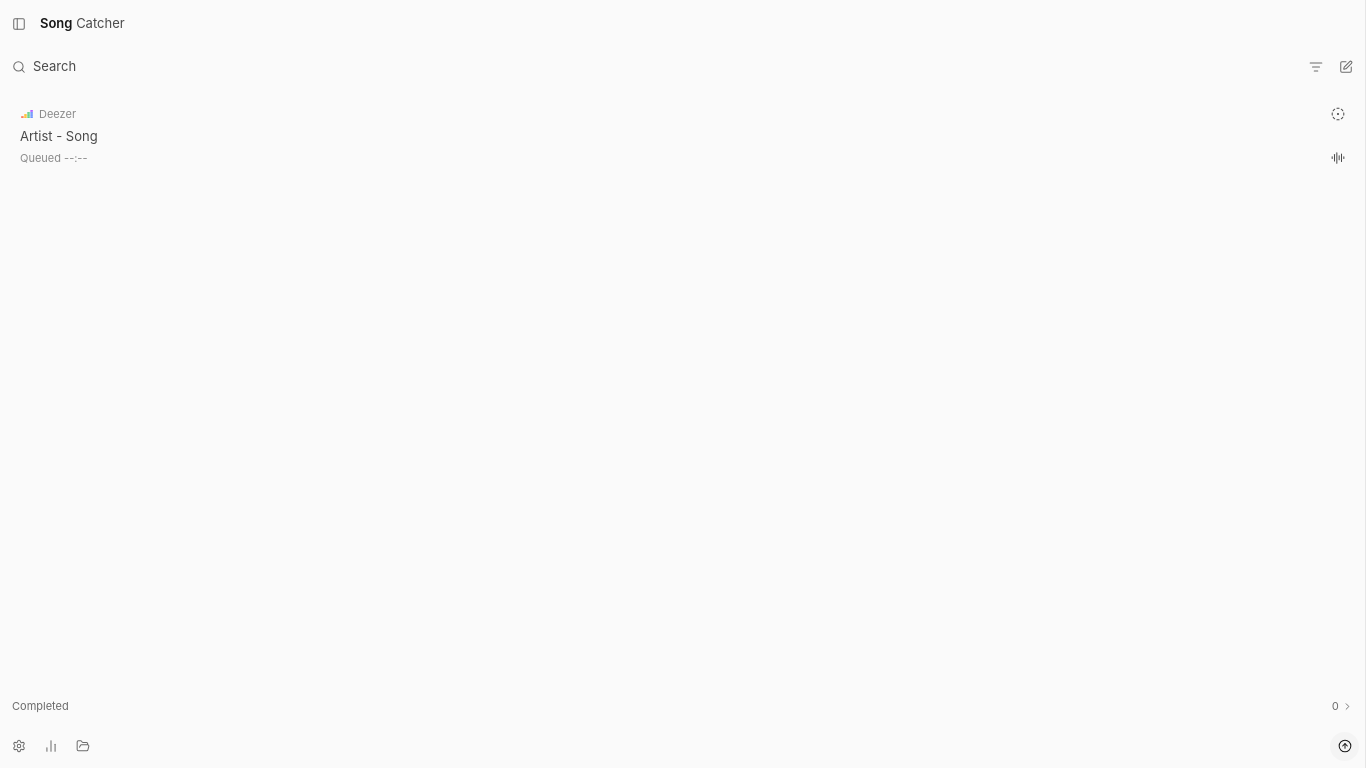
Test: Sidebar queue › says so when nothing has completed yet
Click the button "Completed 0": x=40, y=706 [12,688,1353,724]
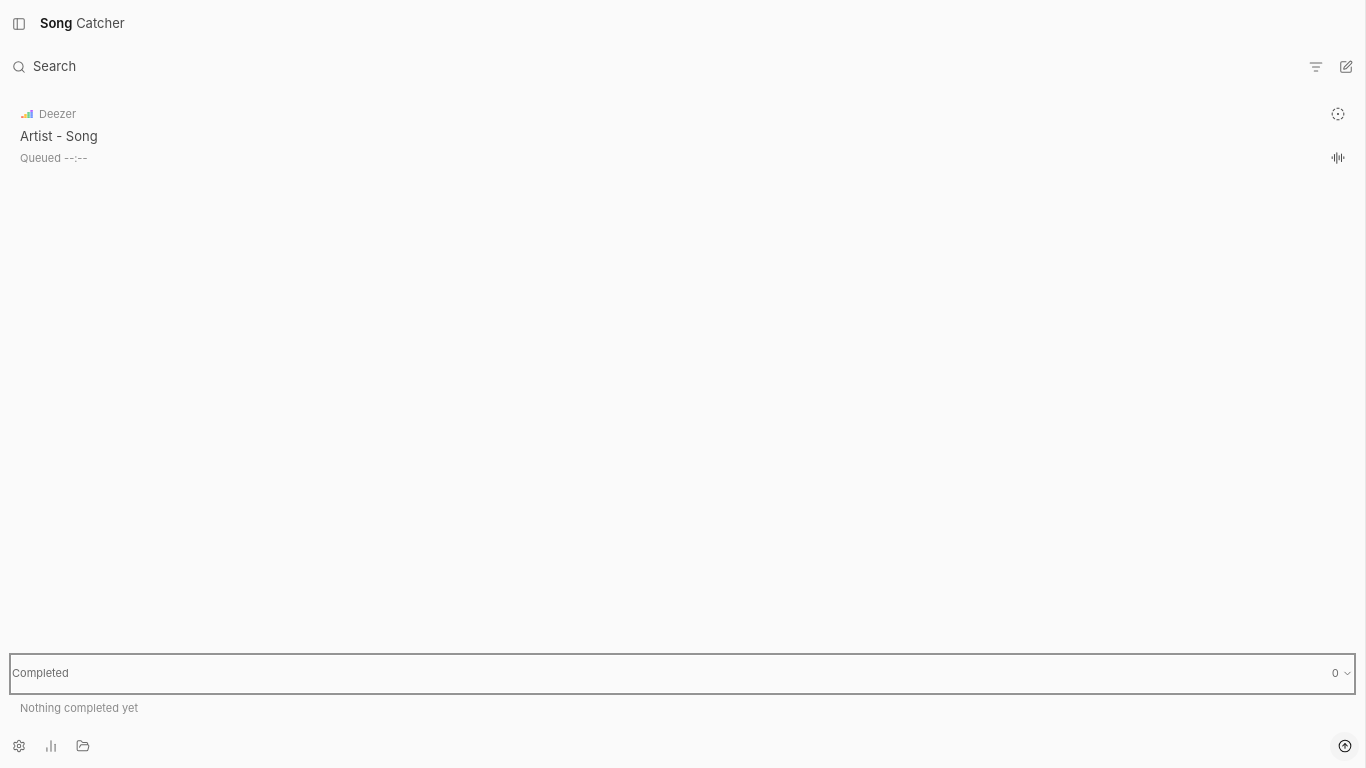
Now the text "Nothing completed yet" is shown, box [20,700,138,714]
